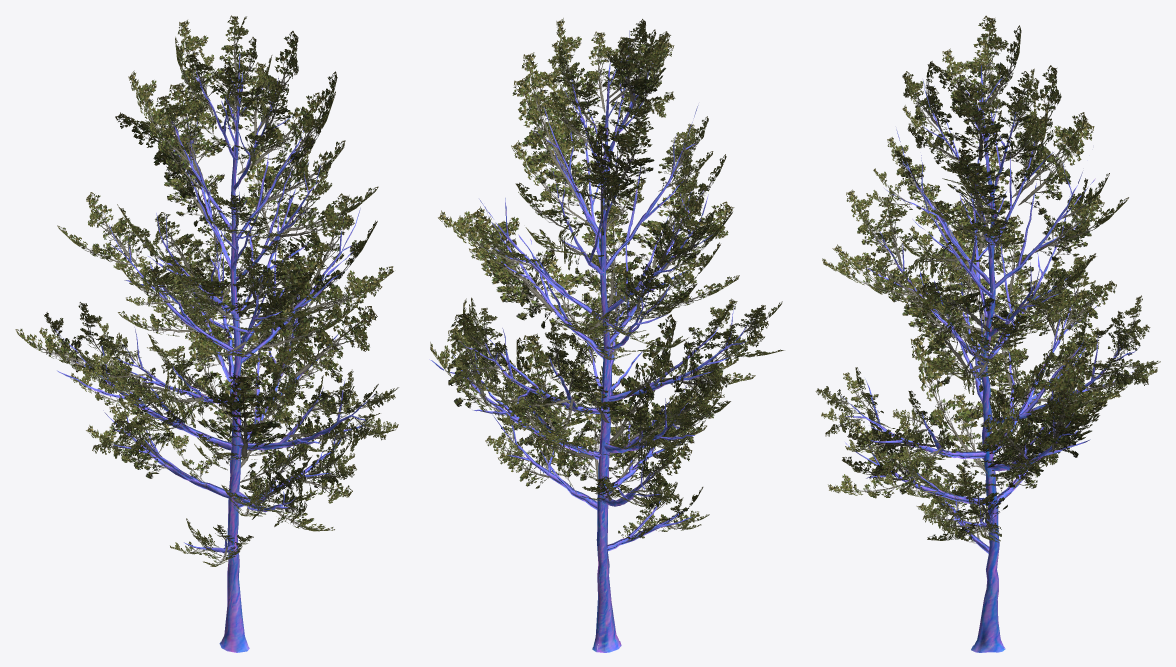
File: Presid_Tree_02.FBX
The picture shows the model from 3 angles, left to right: view 1: azimuth 30°, elevation 25°; view 2: azimuth 150°, elevation 25°; view 3: azimuth 270°, elevation 25°; orthographic projection. The views are drawn at different scales.
Visible parts, largest first — view 1: Presid_Tree_02; view 2: Presid_Tree_02; view 3: Presid_Tree_02.
Boxes of the visible parts, x1,y1,x2,y2 form: Presid_Tree_02: [15, 15, 398, 652]; Presid_Tree_02: [429, 18, 784, 652]; Presid_Tree_02: [815, 15, 1160, 652].
Bounding box in the file's own units: 8.58 × 15.84 × 8.2.
